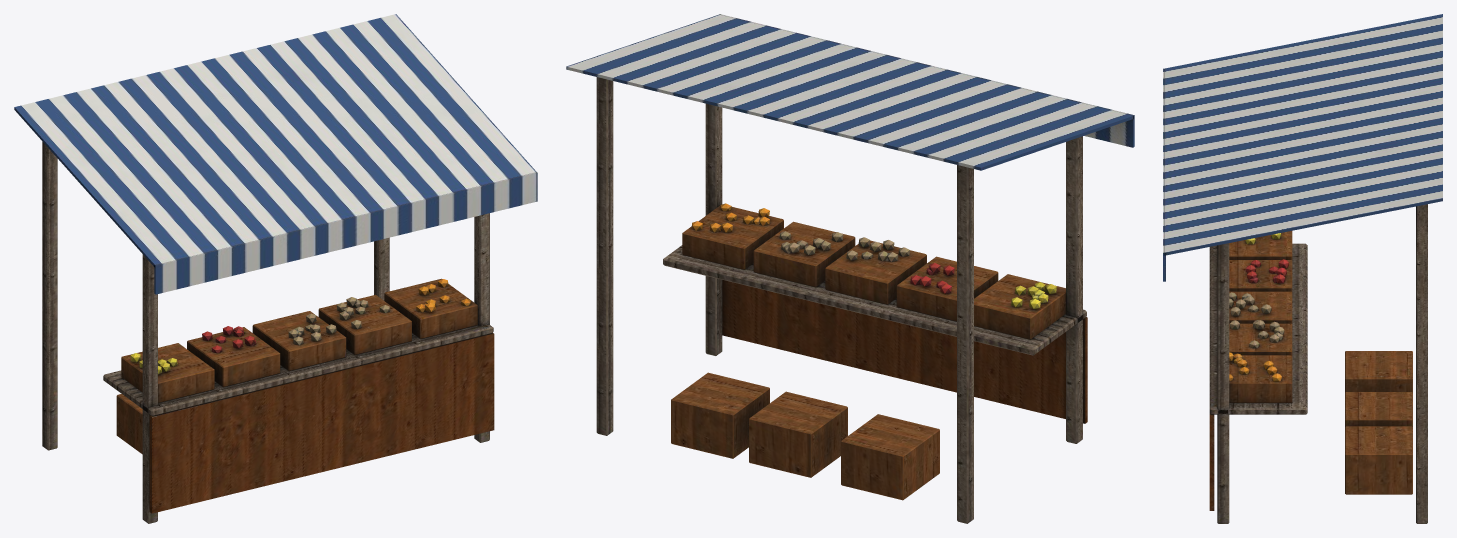
The model's file is market_stall_blue.glb.
The picture shows the model from 3 angles, left to right: view 1: azimuth 30°, elevation 25°; view 2: azimuth 150°, elevation 25°; view 3: azimuth 270°, elevation 25°; orthographic projection. The views are drawn at different scales.
Visible parts, largest first — view 1: market_stall_blue; view 2: market_stall_blue; view 3: market_stall_blue.
Boxes of the visible parts, x1=… form: market_stall_blue: x1=14, y1=14, x2=537, y2=523; market_stall_blue: x1=566, y1=14, x2=1134, y2=523; market_stall_blue: x1=1163, y1=14, x2=1442, y2=523.
Bounding box in the file's own units: 2.9 × 2.46 × 1.86.
1 material, 1 textured.
